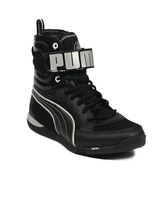shoes: (28, 22, 151, 164)
